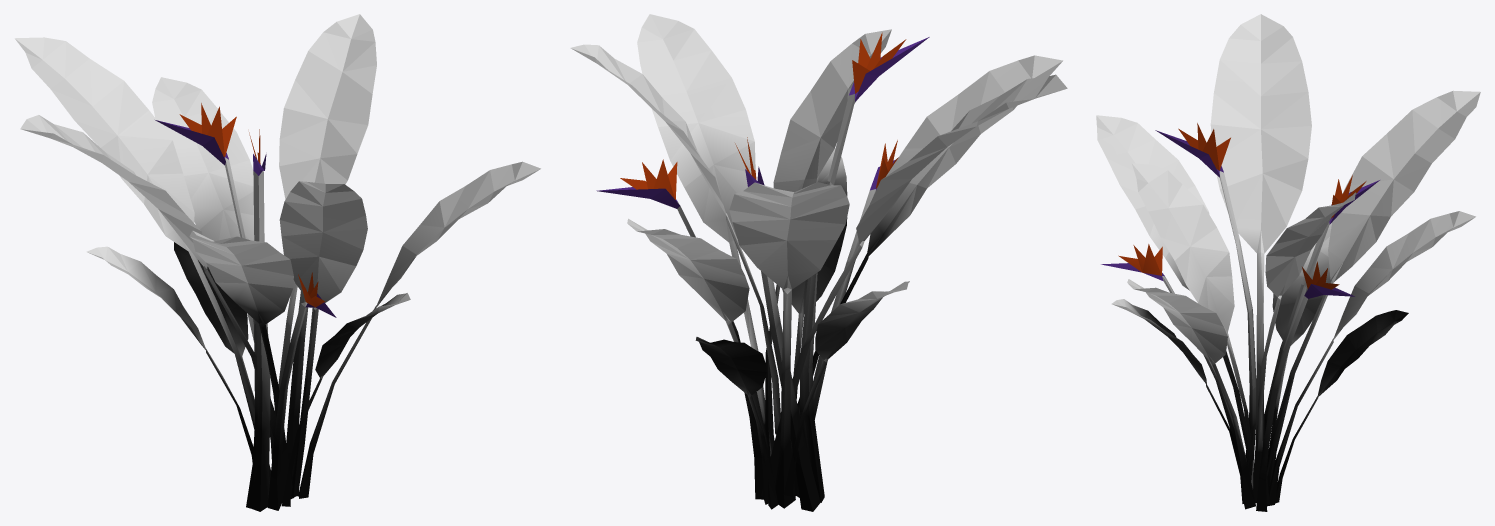
The model's file is SM_BirdofParadise_1.FBX.
3 renders of one model, left to right at view 1: azimuth 30°, elevation 25°; view 2: azimuth 150°, elevation 25°; view 3: azimuth 270°, elevation 25°, orthographic. The views are drawn at different scales.
Visible parts, largest first — view 1: SM_BirdofParadise_1; view 2: SM_BirdofParadise_1; view 3: SM_BirdofParadise_1.
Boxes of the visible parts, bbox=[...] form: SM_BirdofParadise_1: bbox=[15, 14, 540, 511]; SM_BirdofParadise_1: bbox=[570, 14, 1067, 511]; SM_BirdofParadise_1: bbox=[1096, 14, 1480, 511].
Size of what is drawn, in the model's own units: 268 by 227 by 249.
